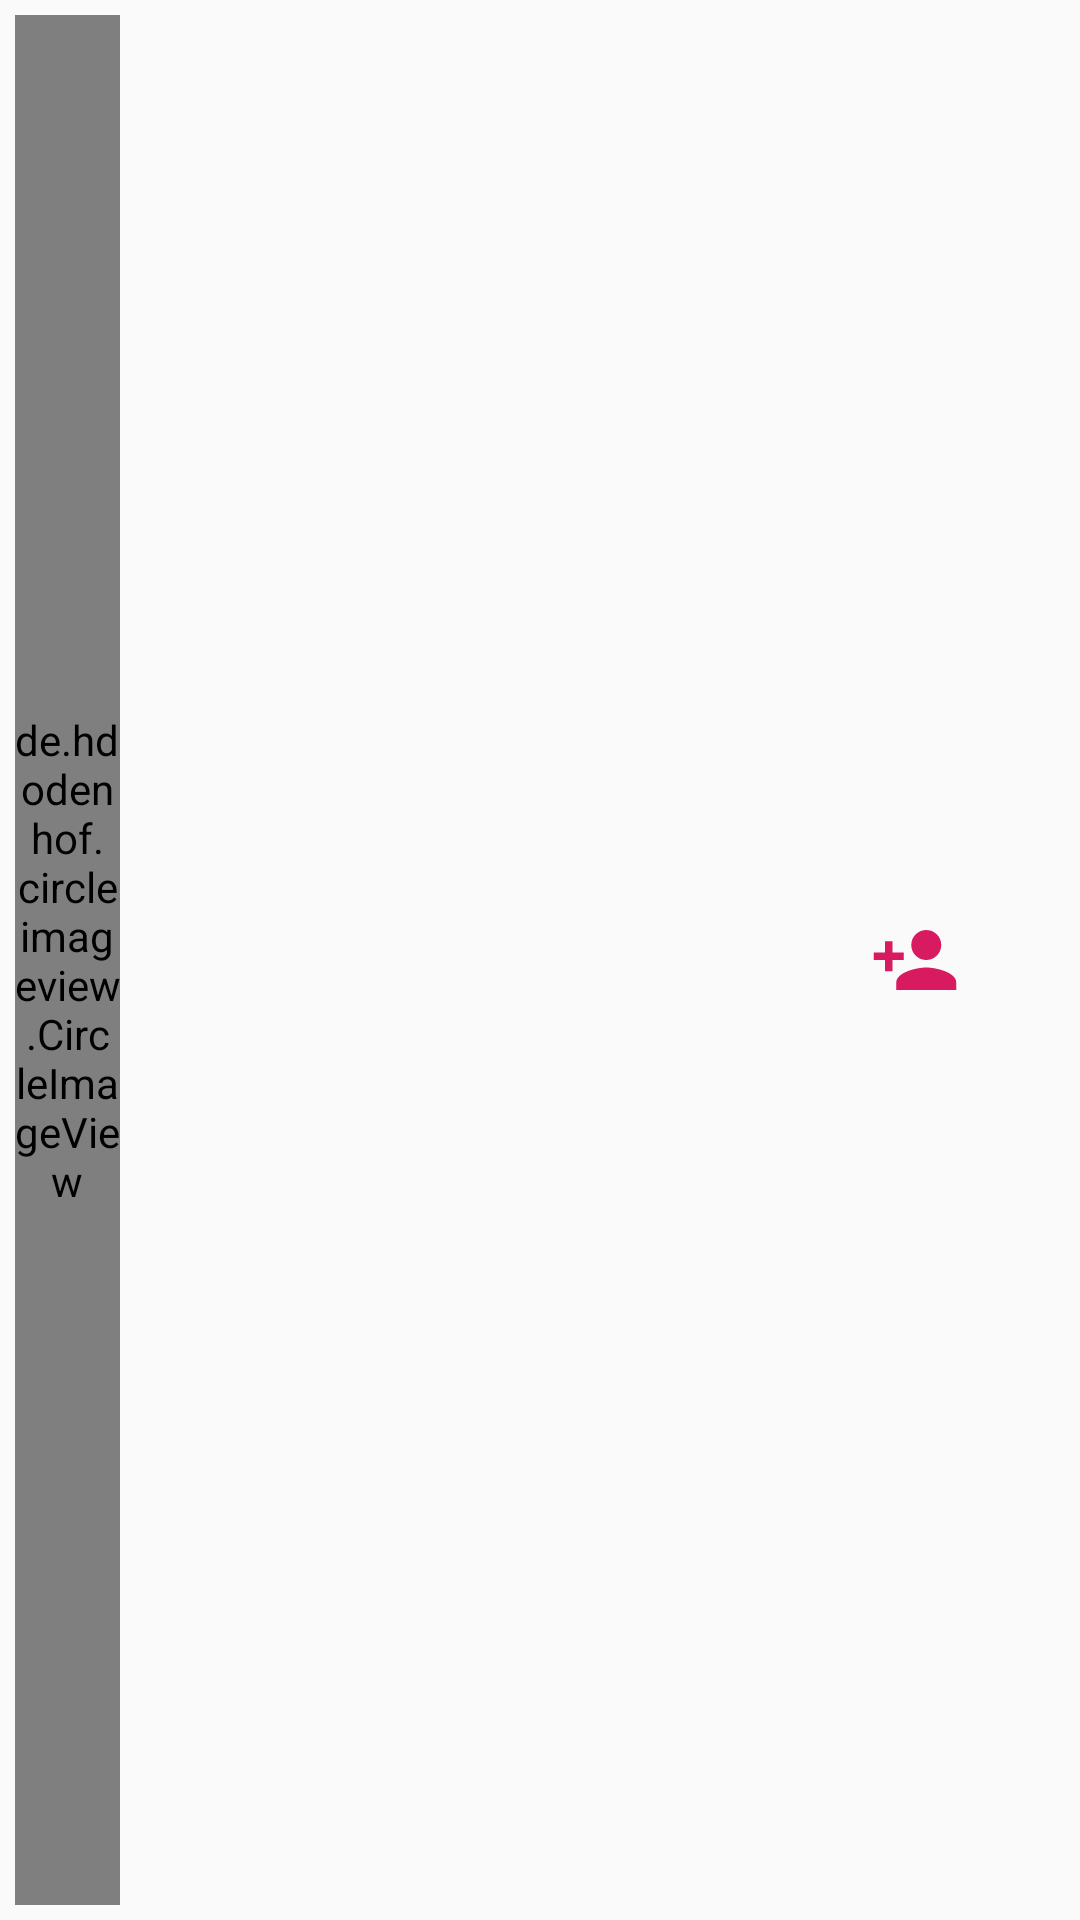

Where icons sit on this 1080x1920 app screen, as (x1, y1, x2, y2):
person add: (873, 930, 957, 990)
